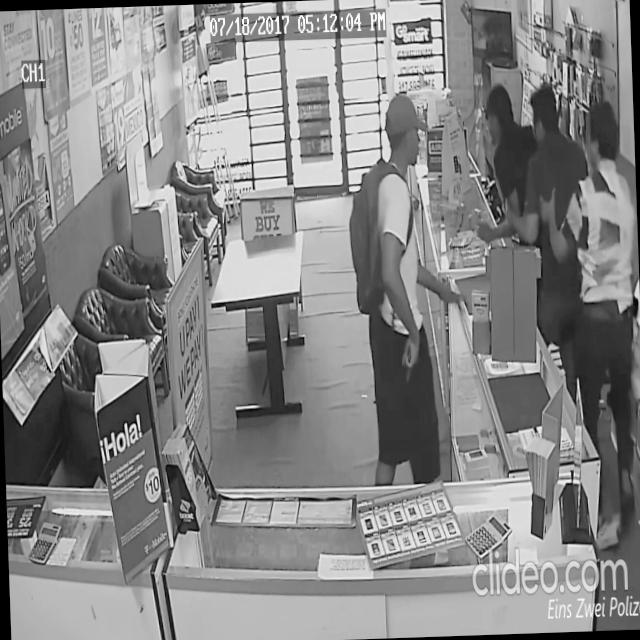gun: (398, 334, 422, 409)
person: (534, 95, 640, 530), (497, 79, 603, 445), (468, 76, 564, 361)
person with a gun: (340, 85, 476, 486)
